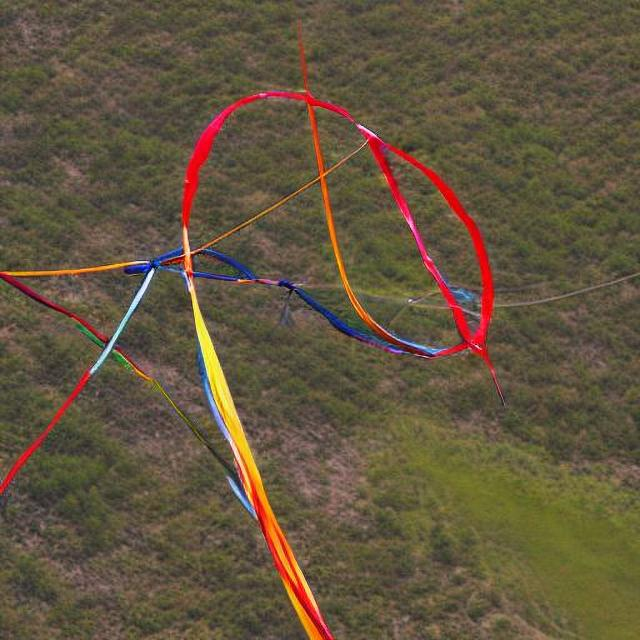floating object: (35, 61, 490, 600), (6, 180, 350, 628), (160, 49, 495, 400), (323, 108, 500, 394)
